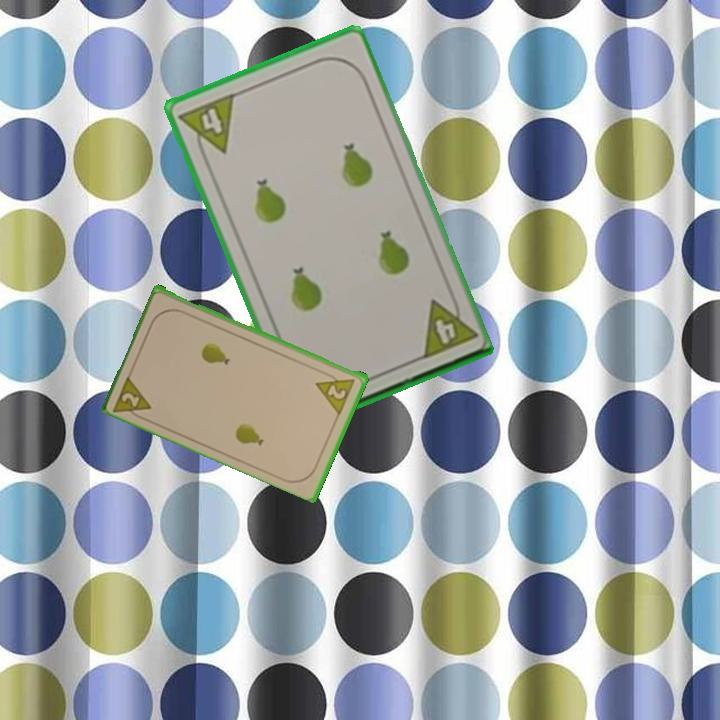2p: (110, 370, 155, 424), (312, 368, 358, 416)
4p: (416, 289, 479, 363), (175, 89, 237, 164)
